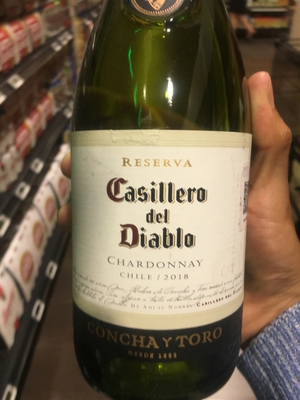casillero del diablo chardonnay: (64, 25, 258, 388)
